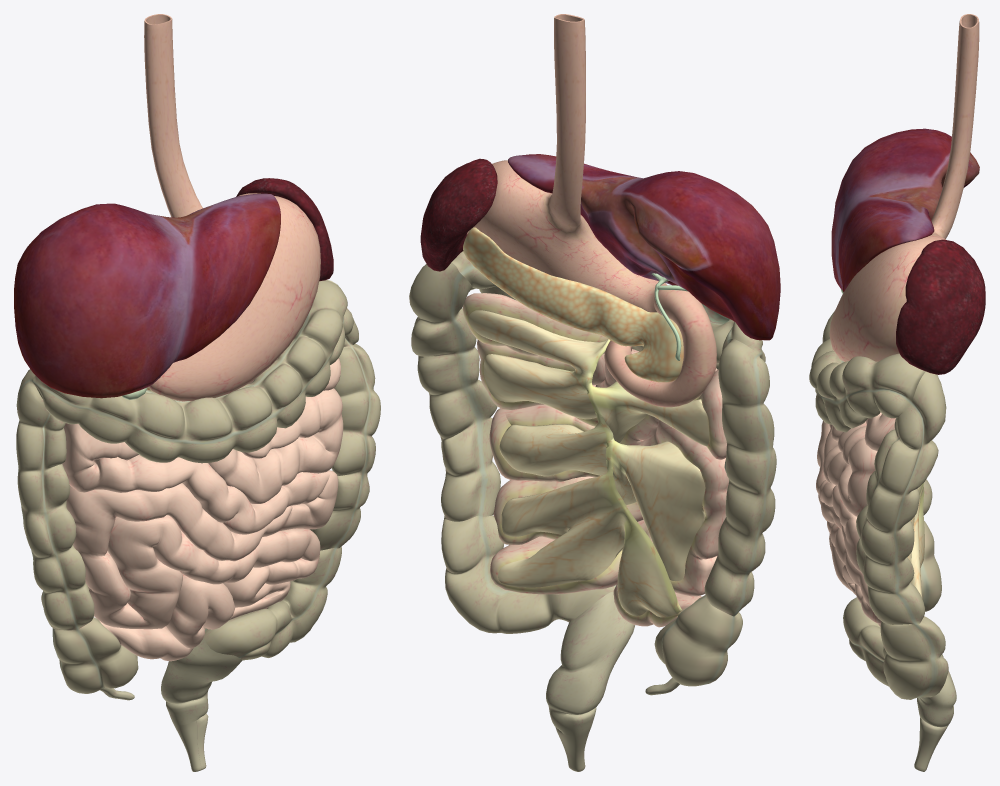
3 views of the same model, side by side, from view 1: azimuth 30°, elevation 25°; view 2: azimuth 150°, elevation 25°; view 3: azimuth 270°, elevation 25° (orthographic). The views are drawn at different scales.
Visible parts, largest first — view 1: Hepar, Ileum, Colon transversum, Jejunum, Gaster, Colon ascendens, Colon descendens, Colon sigmoideum, Oesophagus, Caecum, Rectum, Lien (+1 smaller); view 2: Mesenterium, Hepar, Colon descendens, Colon ascendens, Ileum, Pancreas, Gaster, Colon sigmoideum, Jejunum, Rectum, Oesophagus, Duodenum (+4 smaller); view 3: Hepar, Colon descendens, Lien, Gaster, Colon transversum, Colon sigmoideum, Jejunum, Oesophagus, Ileum, Rectum, Caecum, Mesenterium (+1 smaller).
Part boxes in pixels (x1,y1,x2,y2): Hepar: [14, 193, 280, 398]; Ileum: [66, 470, 338, 661]; Colon transversum: [33, 280, 353, 463]; Jejunum: [62, 358, 343, 534]; Gaster: [148, 193, 320, 401]; Colon ascendens: [16, 369, 94, 630]; Colon descendens: [310, 284, 380, 550]; Colon sigmoideum: [204, 546, 341, 660]; Oesophagus: [144, 14, 202, 217]; Caecum: [52, 617, 138, 693]; Rectum: [161, 637, 242, 725]; Lien: [236, 178, 333, 281]; Mesenterium: [468, 310, 709, 617]; Hepar: [508, 154, 780, 340]; Colon descendens: [409, 262, 500, 521]; Colon ascendens: [704, 339, 776, 616]; Ileum: [489, 408, 728, 627]; Pancreas: [463, 227, 683, 382]; Gaster: [467, 160, 667, 312]; Colon sigmoideum: [441, 515, 616, 633]; Jejunum: [462, 293, 726, 459]; Rectum: [546, 591, 635, 736]; Oesophagus: [549, 14, 585, 226]; Duodenum: [604, 290, 716, 407]; Hepar: [831, 128, 979, 291]; Colon descendens: [856, 371, 946, 624]; Lien: [896, 239, 985, 374]; Gaster: [829, 228, 946, 361]; Colon transversum: [809, 311, 925, 432]; Colon sigmoideum: [843, 597, 948, 699]; Jejunum: [816, 412, 895, 527]; Oesophagus: [931, 14, 979, 236]; Ileum: [818, 468, 881, 627]; Rectum: [917, 654, 956, 727]; Caecum: [920, 521, 941, 611]; Mesenterium: [907, 483, 924, 598].
Bounding box in the file's own units: 0.5226 × 1.06 × 0.2287.
Materials: 22 (22 with a texture image).
